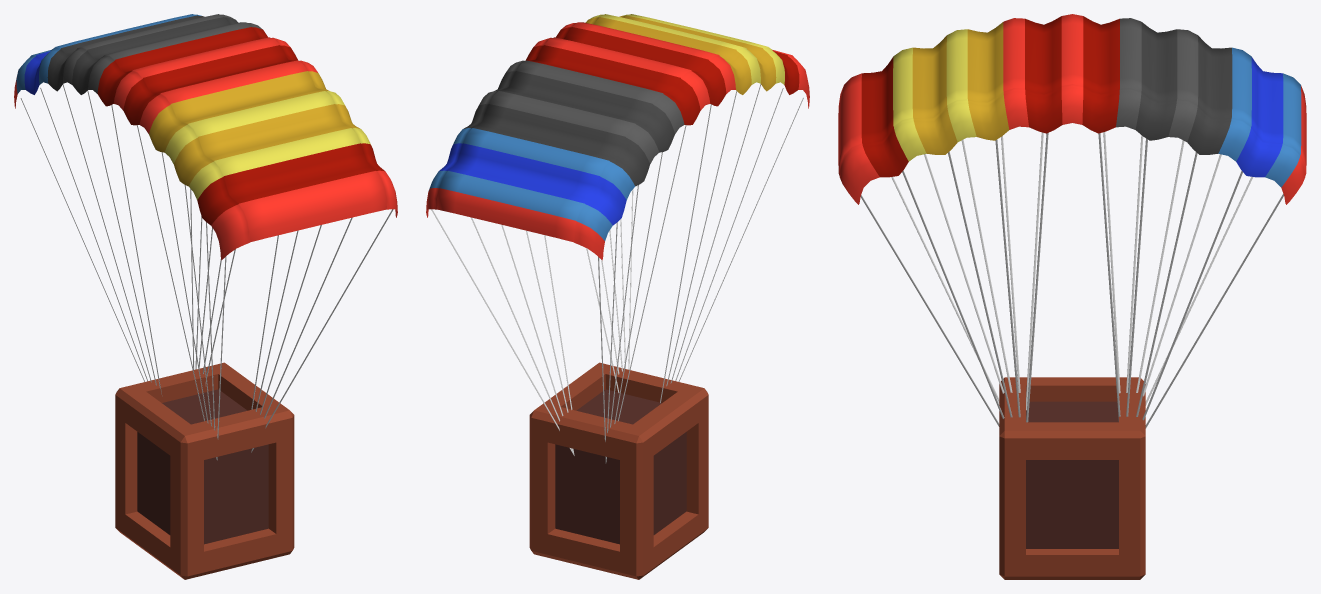
The model's file is parasut_art_kutu.fbx.
The picture shows the model from 3 angles, left to right: view 1: azimuth 30°, elevation 25°; view 2: azimuth 150°, elevation 25°; view 3: azimuth 270°, elevation 25°; orthographic projection. The views are drawn at different scales.
Visible parts, largest first — view 1: Plane, Cube.001, Cube; view 2: Plane, Cube.001, Cube; view 3: Plane, Cube.001, Cube.
Boxes of the visible parts, bbox=[...] form: Plane: bbox=[14, 14, 397, 260]; Cube.001: bbox=[115, 362, 294, 579]; Cube: bbox=[20, 84, 393, 460]; Plane: bbox=[426, 14, 809, 260]; Cube.001: bbox=[529, 362, 708, 579]; Cube: bbox=[431, 84, 803, 463]; Plane: bbox=[838, 14, 1306, 204]; Cube.001: bbox=[999, 377, 1145, 579]; Cube: bbox=[860, 132, 1283, 428].
Bounding box in the file's own units: 84.38 × 225 × 188.
